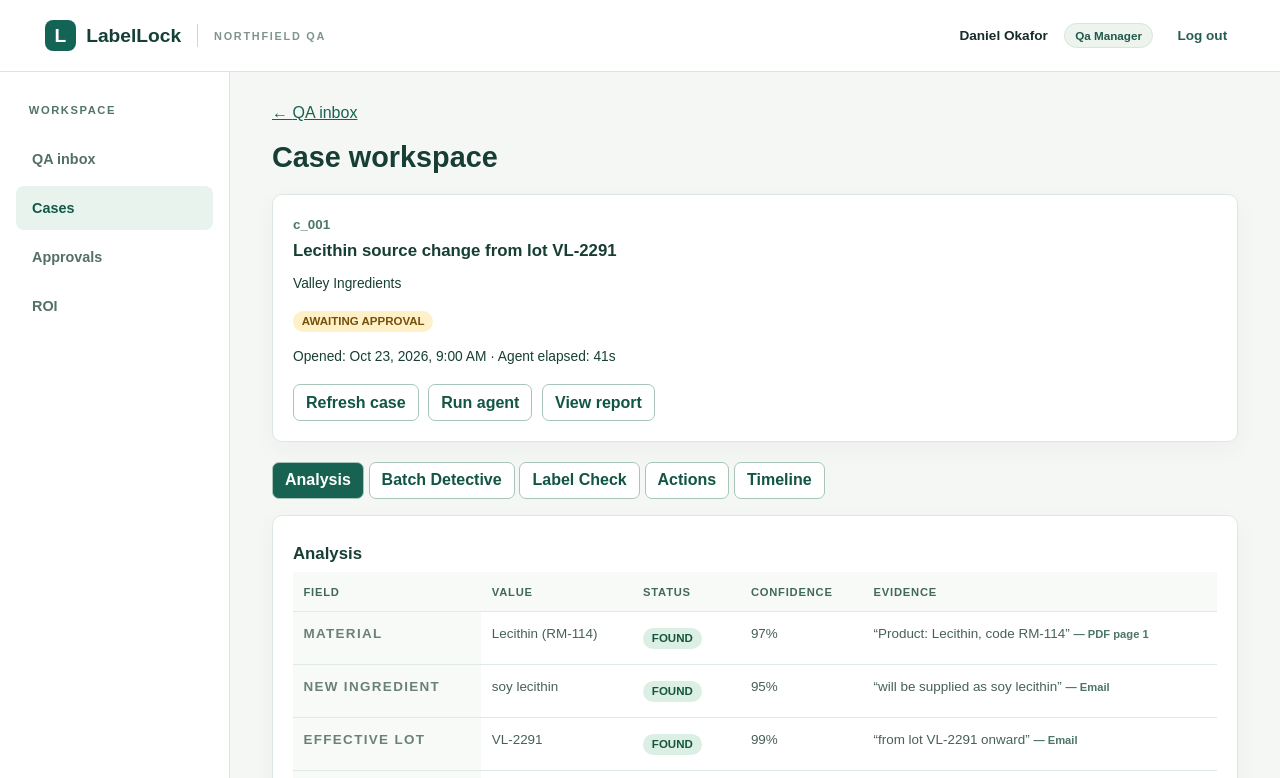
Test case: case action governance › approves in the workspace and polls the action to VERIFIED
expect the heading "Lecithin source change from lot VL-2291" is shown: met, box [293,241,617,260]
Click the tab "Actions" at (687, 480), box [644,462,729,499]
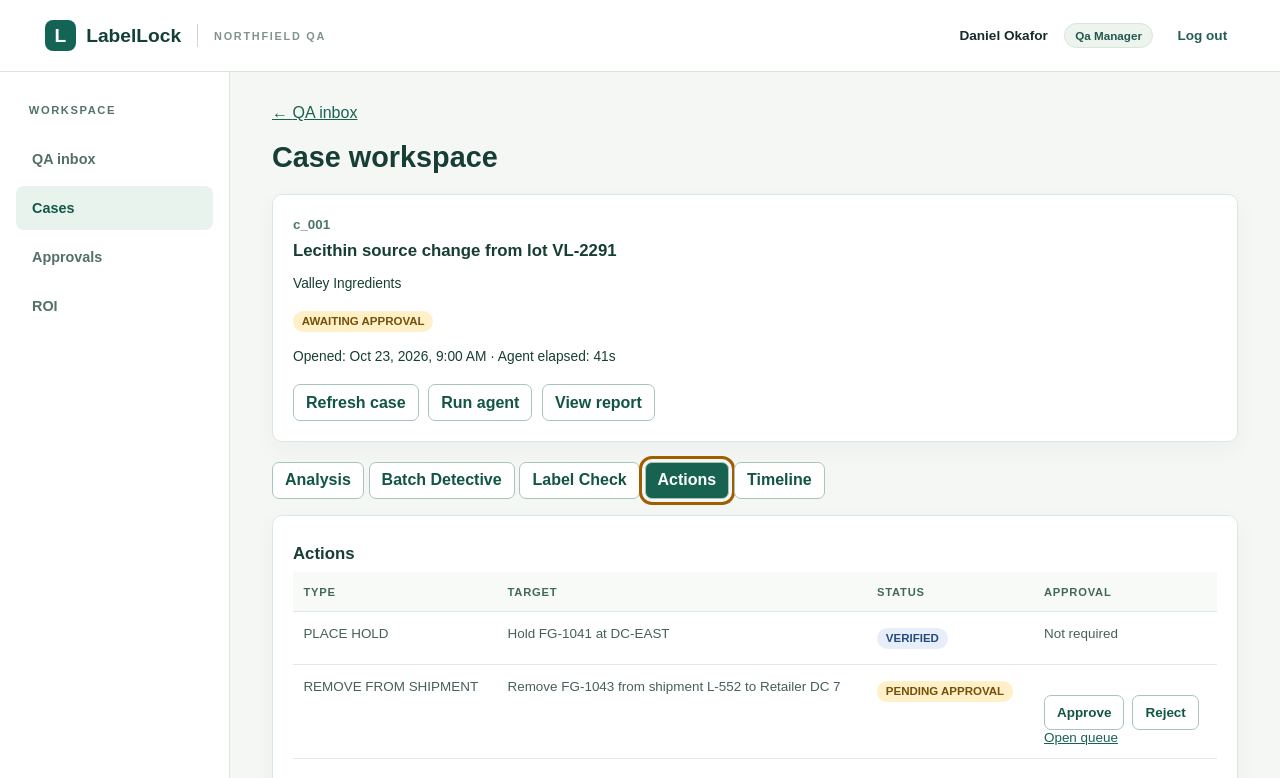
Click the button "Approve" at (1084, 712), box [1044,695,1124,730]
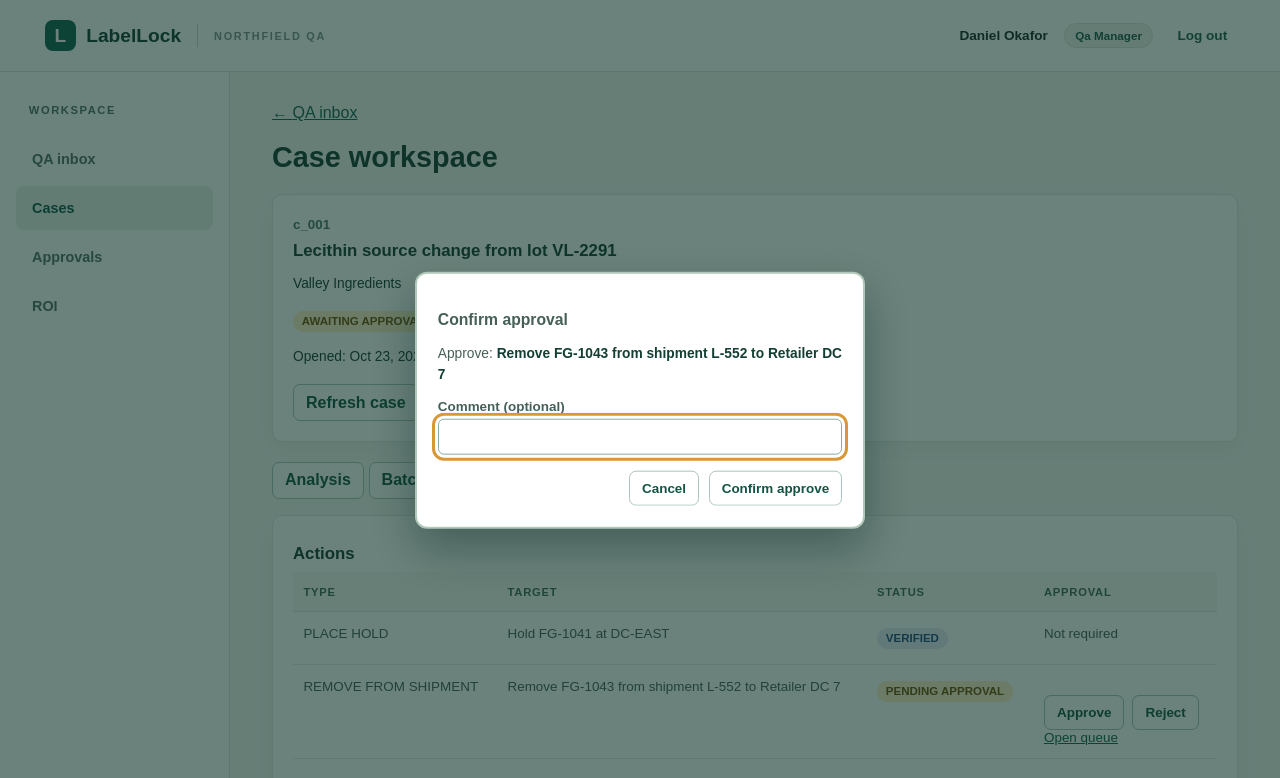
expect the dialog shows "Remove FG-1043 from shipment L-552 to Retailer DC 7": met, box [438,346,842,382]
Click the button "Confirm approve" at (775, 488), box [709,471,842,506]
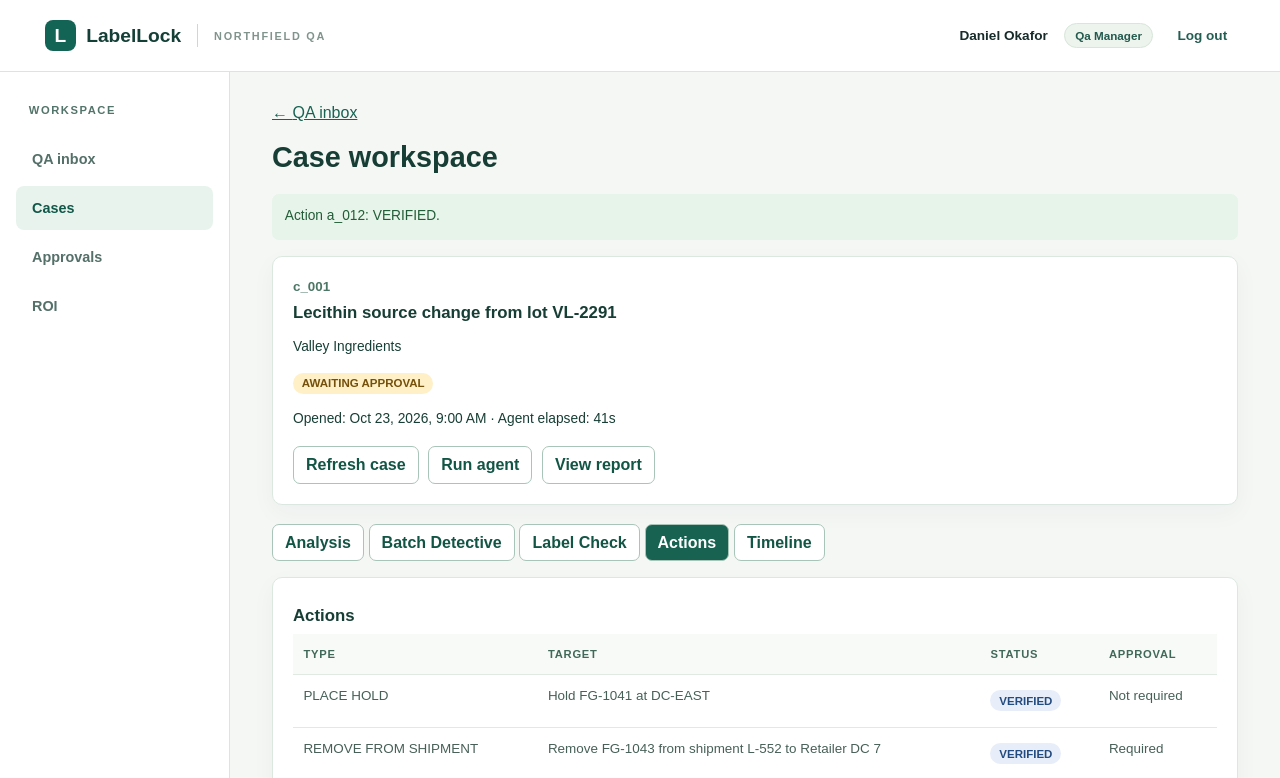
expect the text "VERIFIED" in the row of "REMOVE FROM SHIPMENT" is shown: met, box [999,748,1052,760]
